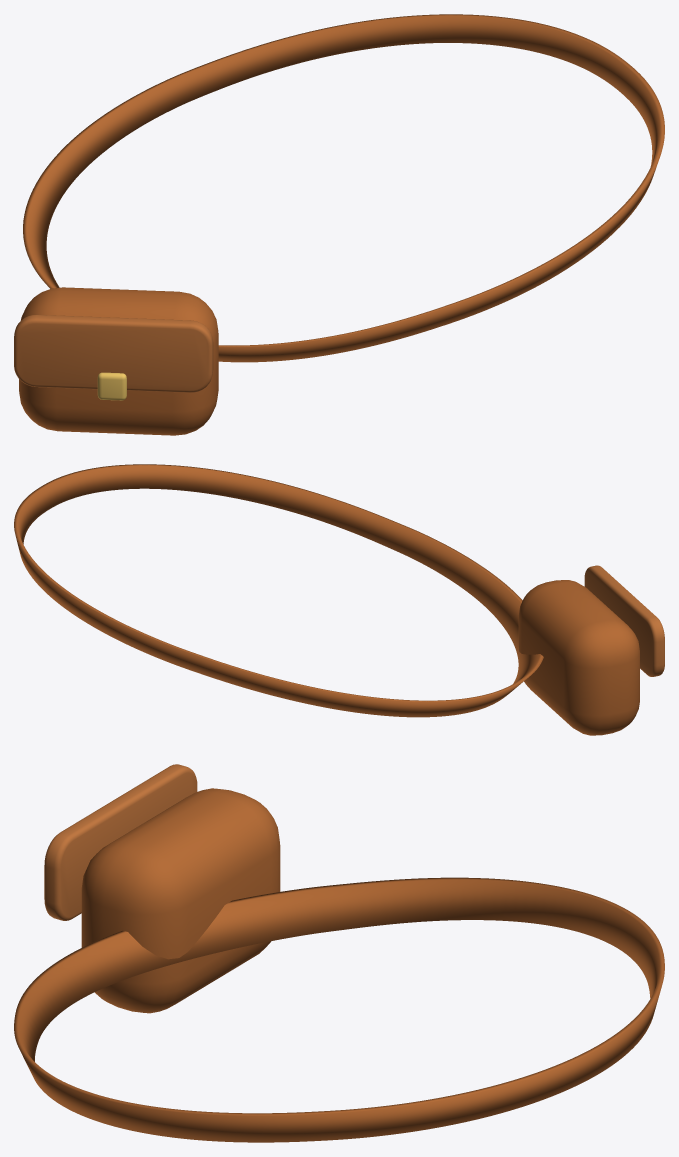
File: satchel.glb
The picture shows the model from 3 angles, top to bottom: view 1: azimuth 30°, elevation 25°; view 2: azimuth 150°, elevation 25°; view 3: azimuth 270°, elevation 25°; orthographic projection. The views are drawn at different scales.
Parts seen in each view (by area): view 1: satchel_continuous_strap, satchel_flap, satchel_pouch, satchel_square_catch; view 2: satchel_continuous_strap, satchel_pouch, satchel_flap; view 3: satchel_continuous_strap, satchel_pouch, satchel_flap.
Boxes of the visible parts, x1,y1,x2,y2 form: satchel_continuous_strap: (23, 14, 664, 362); satchel_flap: (14, 314, 213, 392); satchel_pouch: (19, 287, 218, 435); satchel_square_catch: (97, 372, 126, 400); satchel_continuous_strap: (14, 464, 543, 717); satchel_pouch: (518, 580, 639, 735); satchel_flap: (584, 565, 664, 676); satchel_continuous_strap: (14, 877, 664, 1142); satchel_pouch: (81, 788, 280, 1013); satchel_flap: (44, 764, 197, 920).
Size of the model in its own units: 2.28 by 0.5745 by 1.53.
